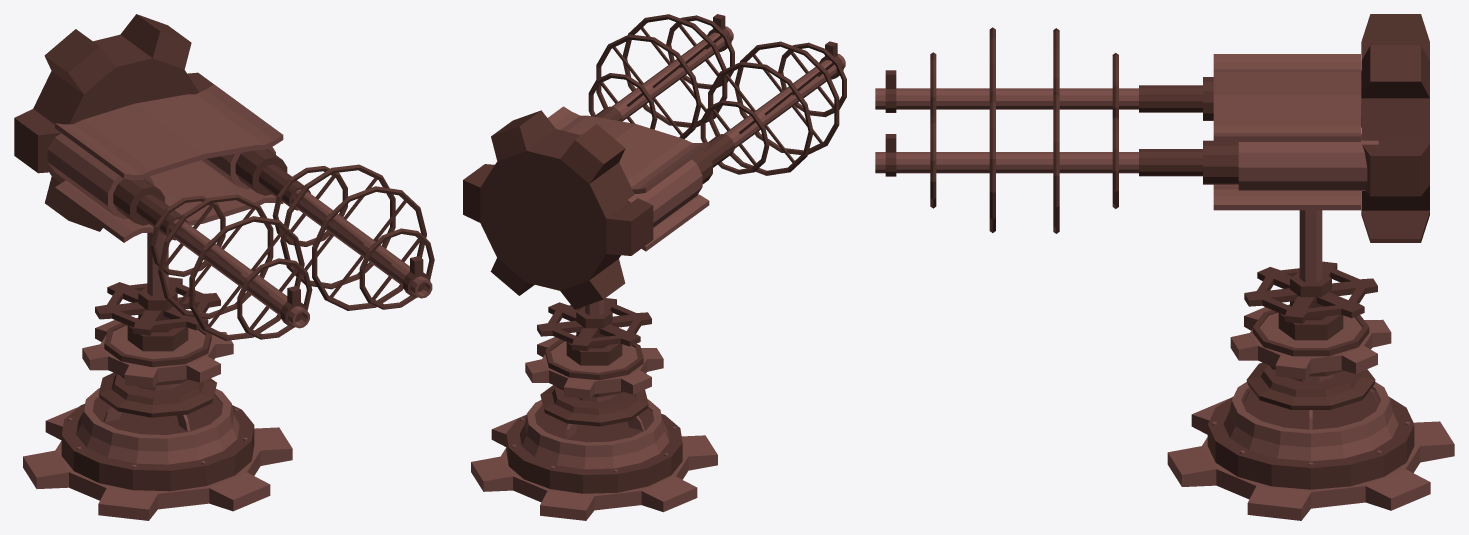
File: laser-doble-d011f7c619.glb
The picture shows the model from 3 angles, left to right: view 1: azimuth 30°, elevation 25°; view 2: azimuth 150°, elevation 25°; view 3: azimuth 270°, elevation 25°; orthographic projection. The views are drawn at different scales.
Parts seen in each view (by area): view 1: Laser_Doble.obj; view 2: Laser_Doble.obj; view 3: Laser_Doble.obj.
Part boxes in pixels (left/top/right/bottom): Laser_Doble.obj: left=14, top=14, right=434, bottom=520; Laser_Doble.obj: left=463, top=14, right=846, bottom=520; Laser_Doble.obj: left=875, top=14, right=1454, bottom=520.
Size of the model in its own units: 1.41 by 2.29 by 2.78.
